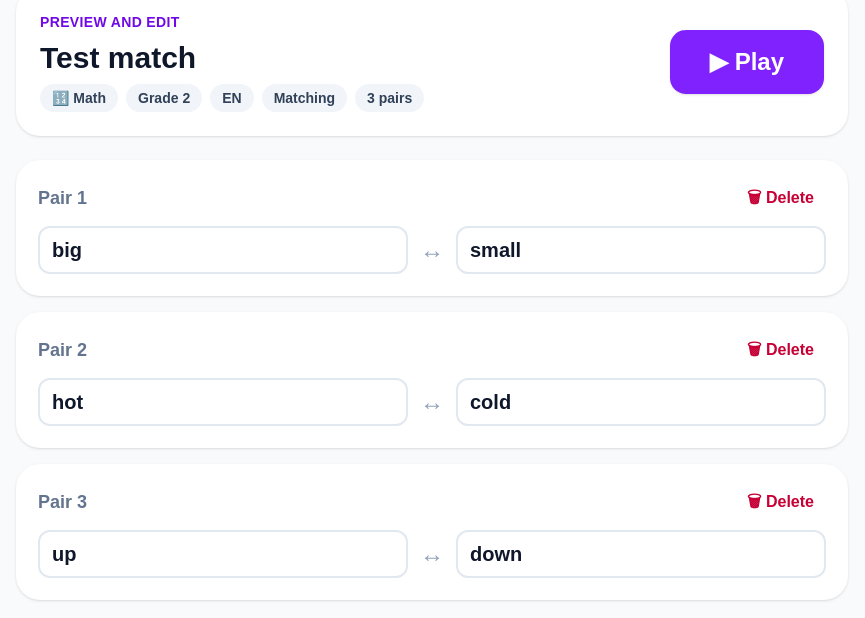
Scenario: GamePreview › shows a general problem when too few pairs are left, and undo restores them
Click the button with aria-label "Delete pair 1" at (781, 198), box [735,182,826,214]
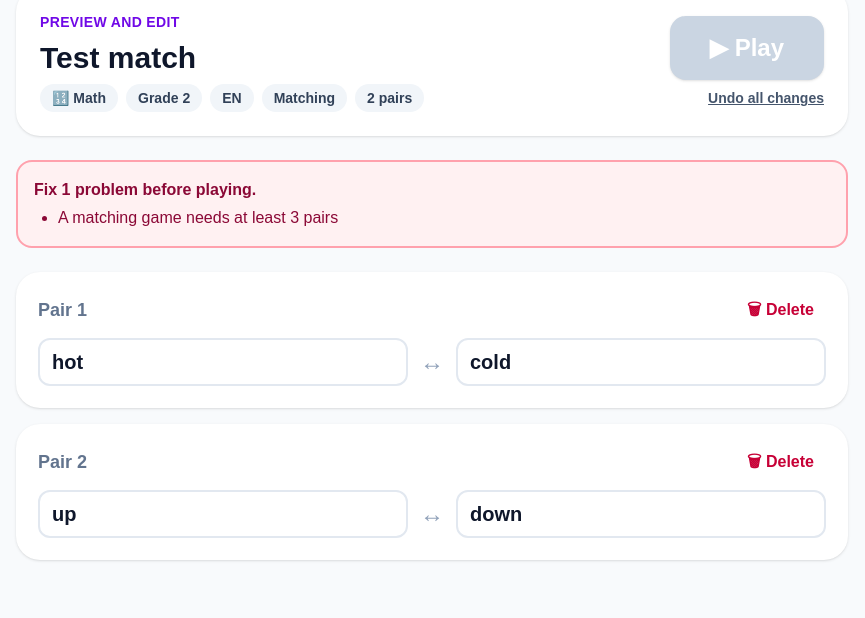
Expected: the message shows "A matching game needs at least 3 pairs", [58,209,338,226]
Expected: the button "▶ Play" is disabled, [670,16,824,80]
Click the button "Undo all changes" at (766, 98), box [708,88,824,108]
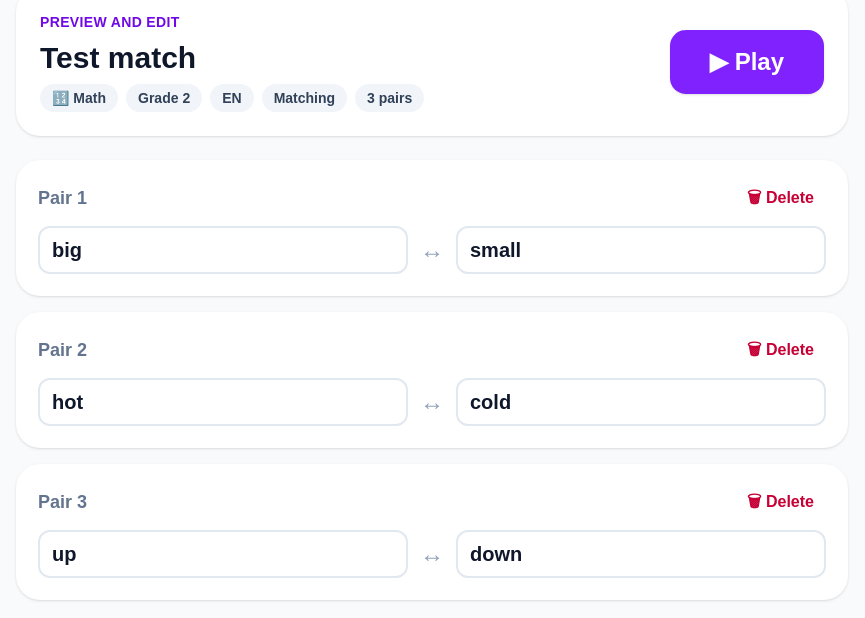
Expected: the number of list items "Pair 1 🗑 Delete ↔" is 3, [16,160,848,296]; [16,312,848,448]; [16,464,848,600]
Expected: the button "▶ Play" is enabled, [670,30,824,94]
Expected: the button "Undo all changes" is gone
